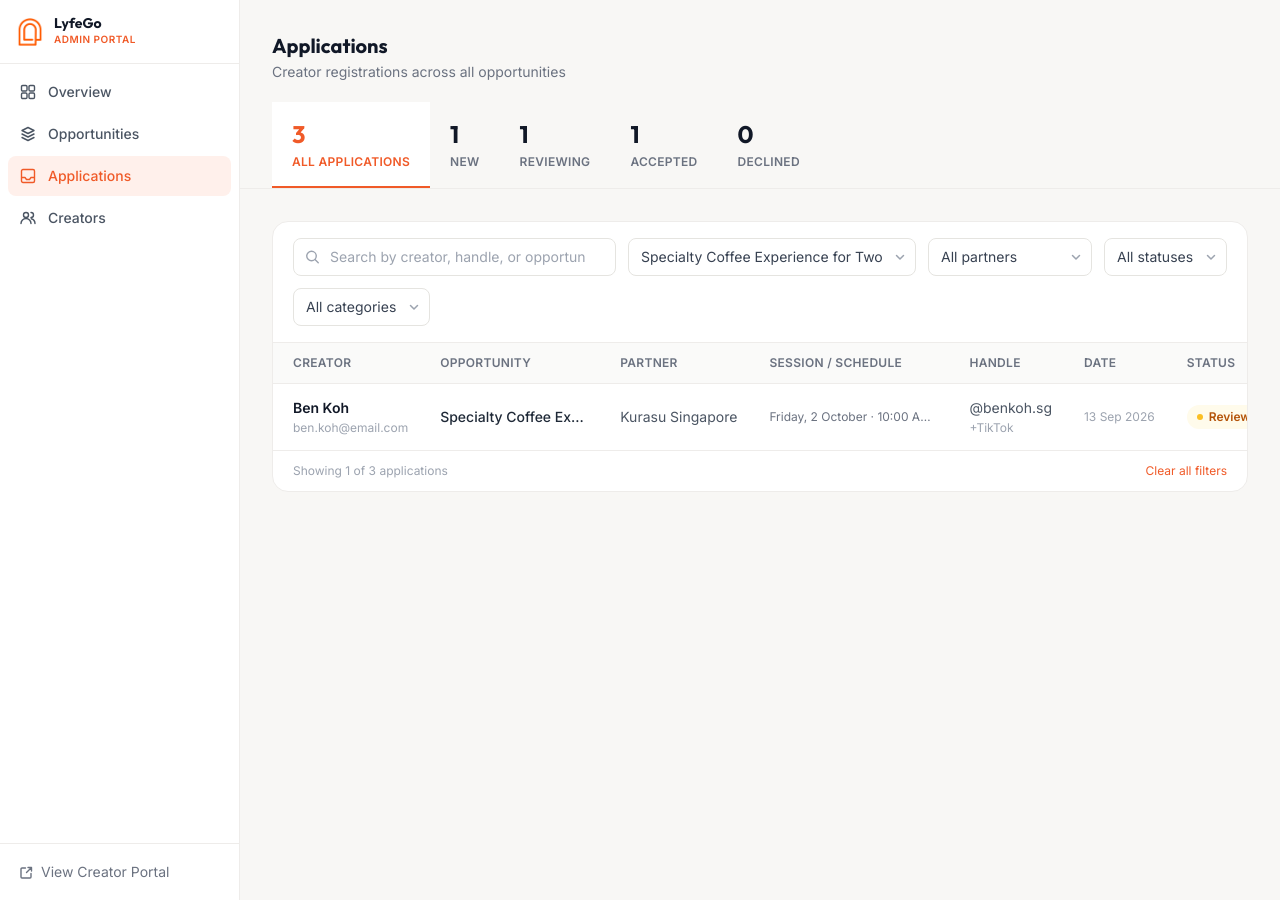
Admin Applications list › pre-selects the Opportunity filter from the URL
Expected: the text "Showing 1 of 3 applications" is shown, [293,463,448,479]
Expected: the dropdown named "Opportunity" shows "Specialty Coffee Experience for Two", [628,238,916,276]
Click the button "Clear all filters" at (1186, 471), box [1146,463,1227,479]
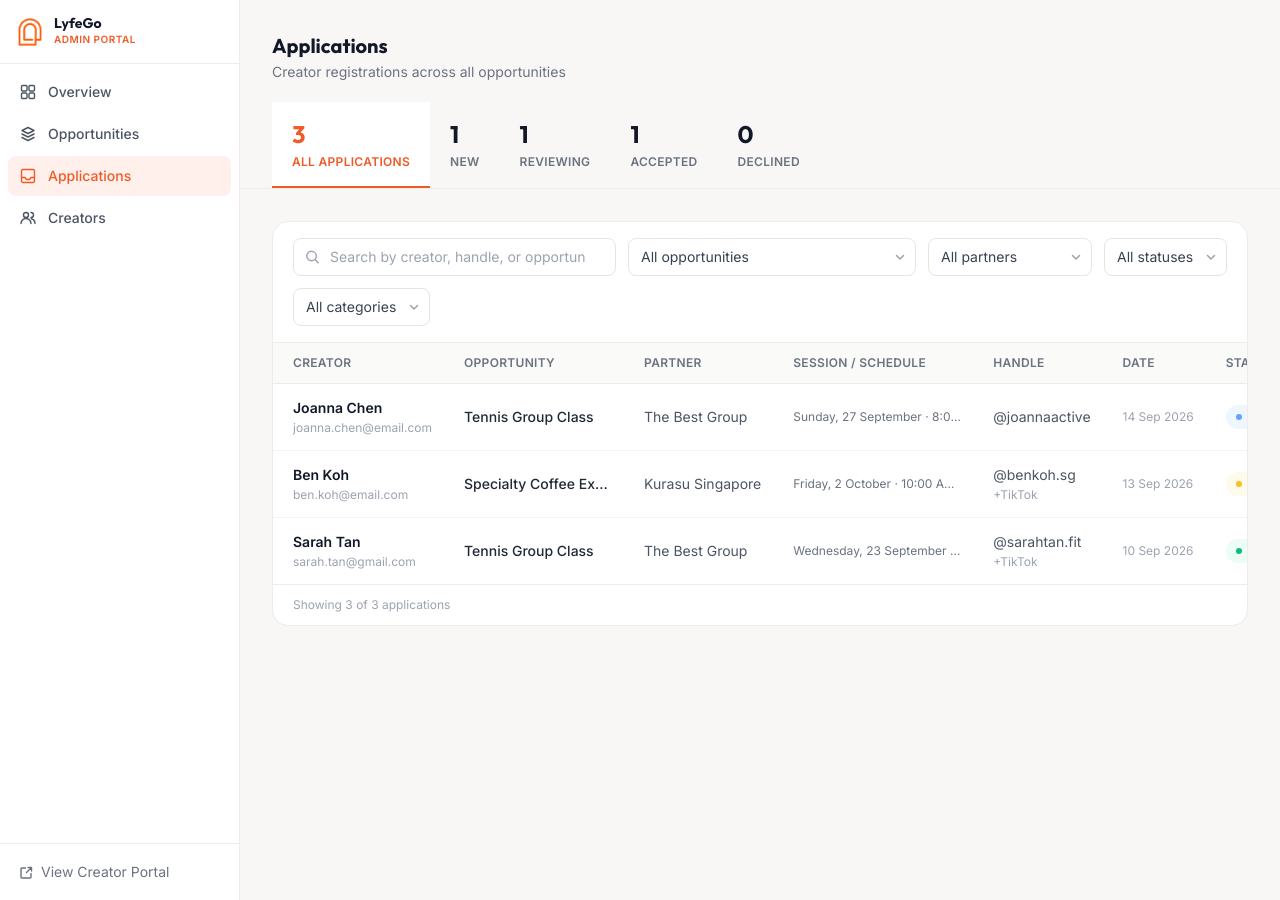
Expected: the text "Showing 3 of 3 applications" is shown, [293,597,450,613]
